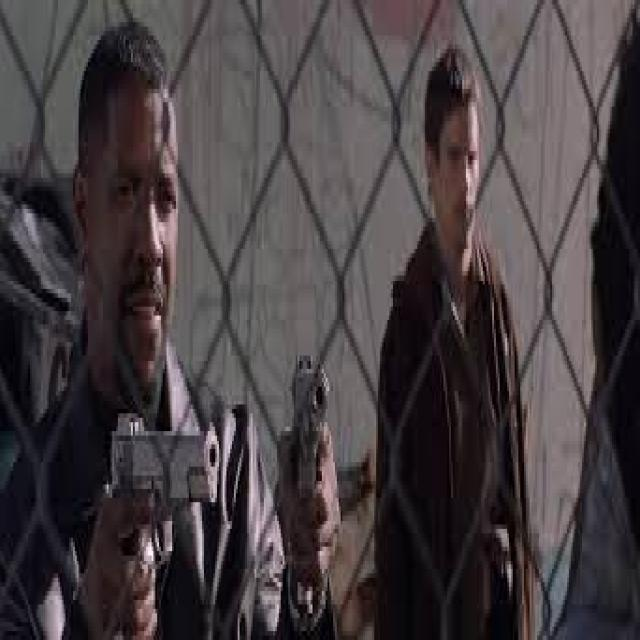gun: (86, 400, 230, 640), (253, 322, 349, 627)
